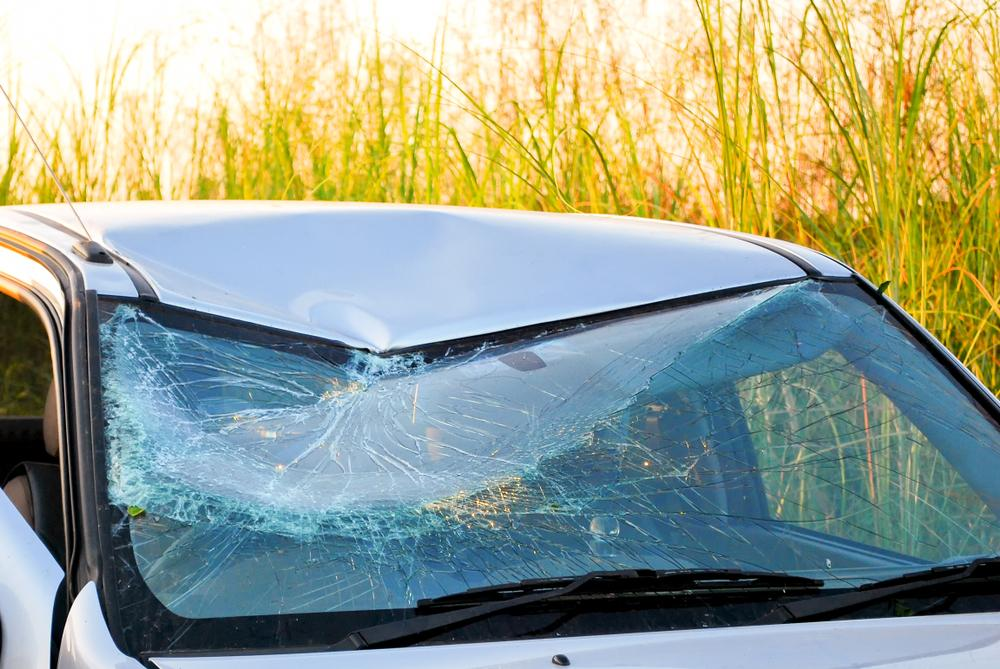dent: (104, 211, 744, 353)
glass shatter: (97, 281, 1000, 652)
